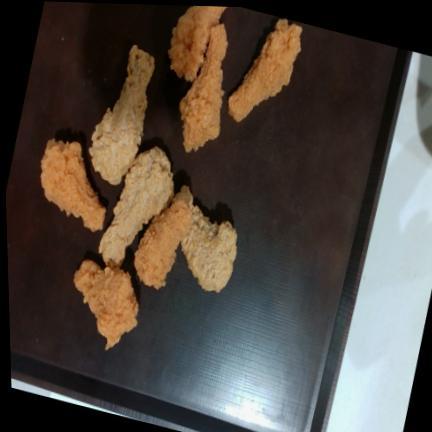chicken: (89, 46, 155, 185), (99, 147, 174, 265), (229, 19, 302, 122), (175, 186, 237, 292), (180, 25, 228, 151), (41, 139, 106, 231), (74, 260, 138, 350), (134, 199, 192, 289), (169, 6, 227, 82)
